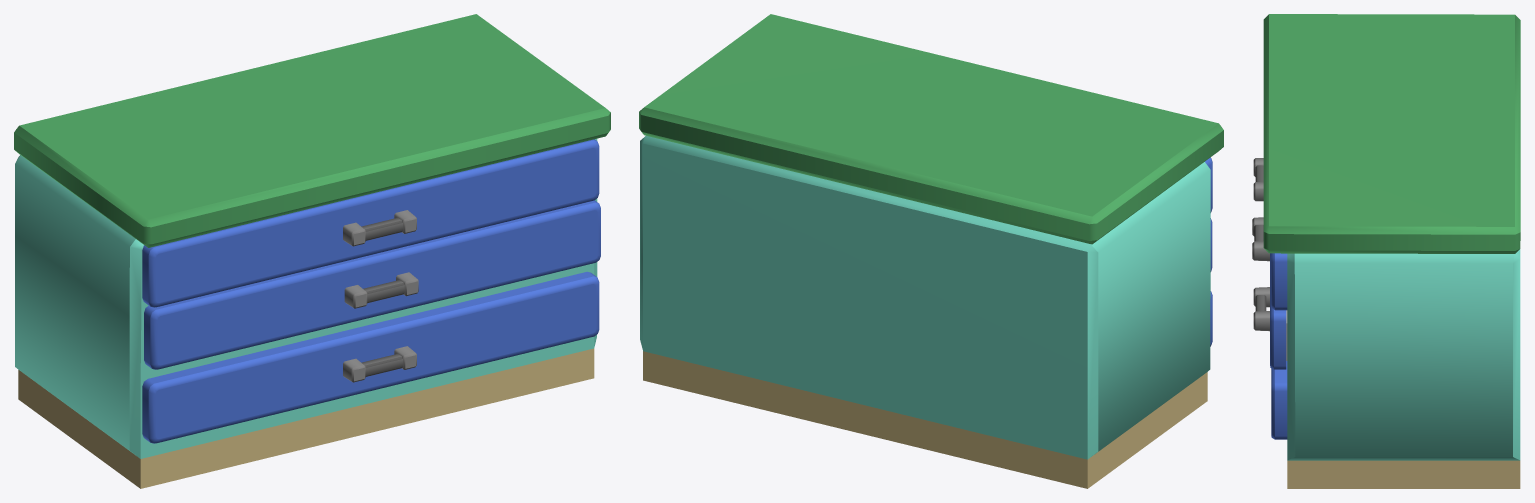
File: Furnit_E_7.glb
The picture shows the model from 3 angles, left to right: view 1: azimuth 30°, elevation 25°; view 2: azimuth 150°, elevation 25°; view 3: azimuth 270°, elevation 25°; orthographic projection. The views are drawn at different scales.
Visible parts, largest first — view 1: Furnit_E_7; view 2: Furnit_E_7; view 3: Furnit_E_7.
Boxes of the visible parts, x1,y1,x2,y2 form: Furnit_E_7: [14, 14, 610, 488]; Furnit_E_7: [639, 14, 1223, 488]; Furnit_E_7: [1252, 14, 1520, 488].
Bounding box in the file's own units: 1.8 × 1.02 × 0.9392.
Materials: 1 (1 with a texture image).
